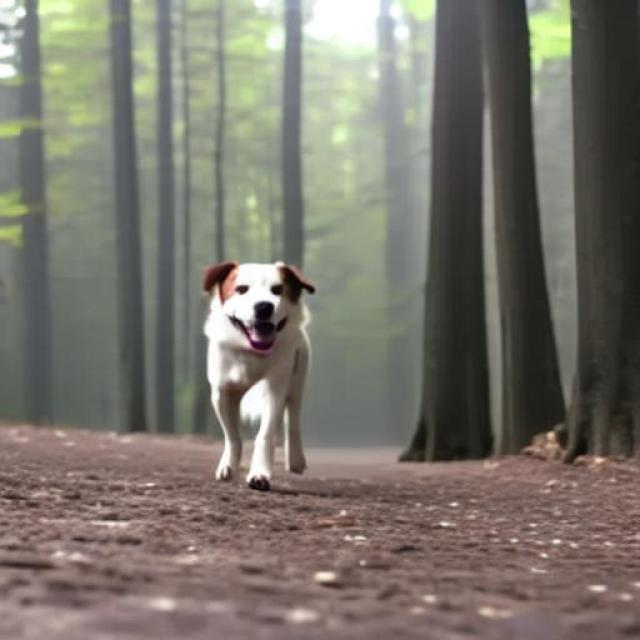Dog: (200, 260, 316, 492)
